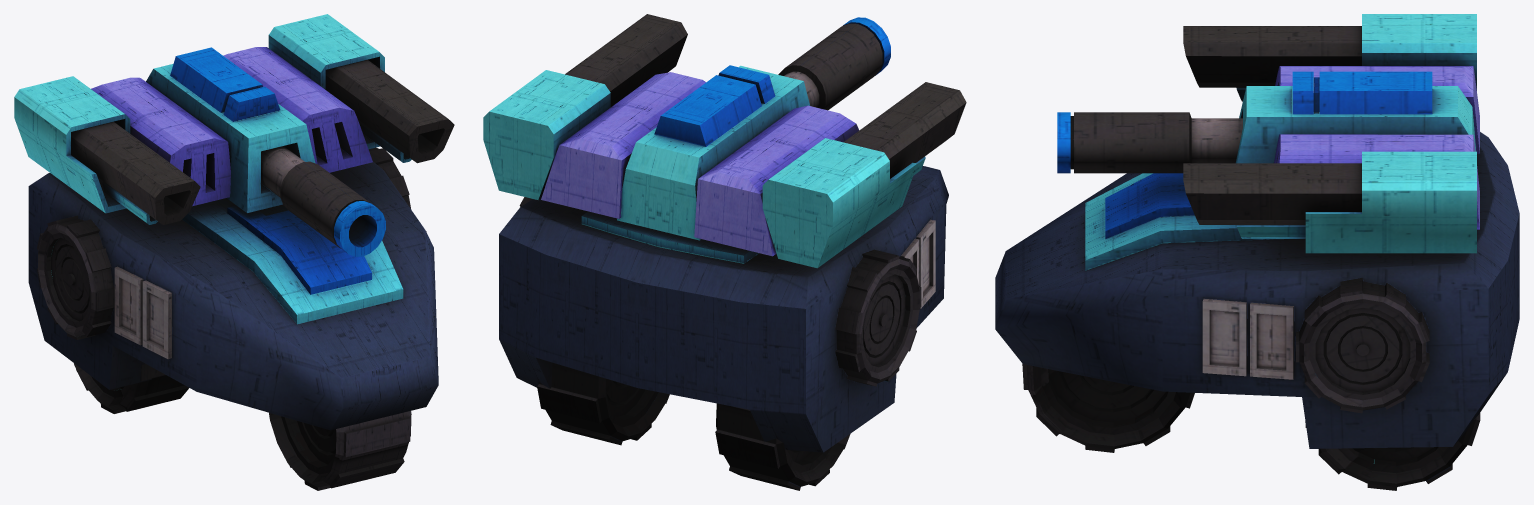
Rendered from PlayerA1.obj.
3 renders of one model, left to right at view 1: azimuth 30°, elevation 25°; view 2: azimuth 150°, elevation 25°; view 3: azimuth 270°, elevation 25°, orthographic. The views are drawn at different scales.
Parts seen in each view (by area): view 1: Object001, Object002, Object004, Object003; view 2: Object001, Object002, Object003; view 3: Object001, Object002, Object004, Object003.
Boxes of the visible parts, x1,y1,x2,y2 form: Object001: (28,47,438,430); Object002: (14,14,454,224); Object004: (269,411,411,490); Object003: (74,363,188,413); Object001: (499,17,948,452); Object002: (483,14,966,268); Object003: (537,362,850,490); Object001: (995,66,1519,448); Object002: (1183,14,1476,253); Object004: (1022,364,1194,452); Object003: (1305,413,1480,490).
Size of the model in its own units: 93.13 by 88.69 by 119.
Materials: 1 (1 with a texture image).
